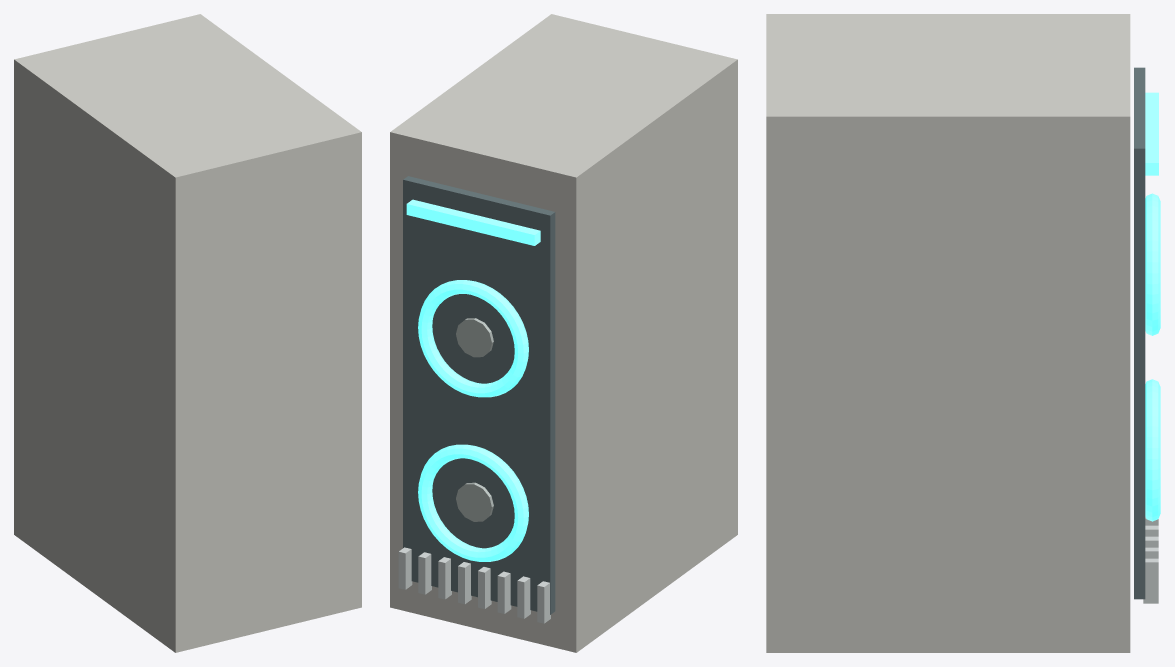
The model's file is s7-e0e1-w04-workstation-tower.glb.
3 views of the same model, side by side, from view 1: azimuth 30°, elevation 25°; view 2: azimuth 150°, elevation 25°; view 3: azimuth 270°, elevation 25° (orthographic). The views are drawn at different scales.
Parts seen in each view (by area): view 1: workstation-tower-case-000; view 2: workstation-tower-case-000, mesh-tower-front-001, workstation-fan-ring-002, workstation-fan-ring-004, case-power-indicator-006, fan-boss-003, fan-boss-005, front-vent-slat-009, front-vent-slat-014, front-vent-slat-013, front-vent-slat-008, front-vent-slat-007 (+3 smaller); view 3: workstation-tower-case-000, mesh-tower-front-001, workstation-fan-ring-002, workstation-fan-ring-004, case-power-indicator-006, front-vent-slat-014.
Part boxes in pixels (x1,y1,x2,y2): workstation-tower-case-000: (14, 14, 361, 652); workstation-tower-case-000: (390, 14, 737, 652); mesh-tower-front-001: (403, 176, 555, 614); workstation-fan-ring-002: (418, 444, 528, 561); workstation-fan-ring-004: (418, 280, 528, 397); case-power-indicator-006: (406, 199, 540, 245); fan-boss-003: (456, 482, 493, 521); fan-boss-005: (456, 318, 493, 357); front-vent-slat-009: (497, 571, 511, 613); front-vent-slat-014: (398, 547, 412, 589); front-vent-slat-013: (418, 552, 431, 594); front-vent-slat-008: (517, 576, 530, 618); front-vent-slat-007: (537, 581, 550, 623); workstation-tower-case-000: (766, 14, 1130, 652); mesh-tower-front-001: (1134, 67, 1145, 599); workstation-fan-ring-002: (1145, 379, 1160, 521); workstation-fan-ring-004: (1145, 193, 1160, 335); case-power-indicator-006: (1145, 92, 1158, 175); front-vent-slat-014: (1143, 558, 1158, 603).
Bounding box in the file's own units: 0.32 × 0.78 × 0.52.
